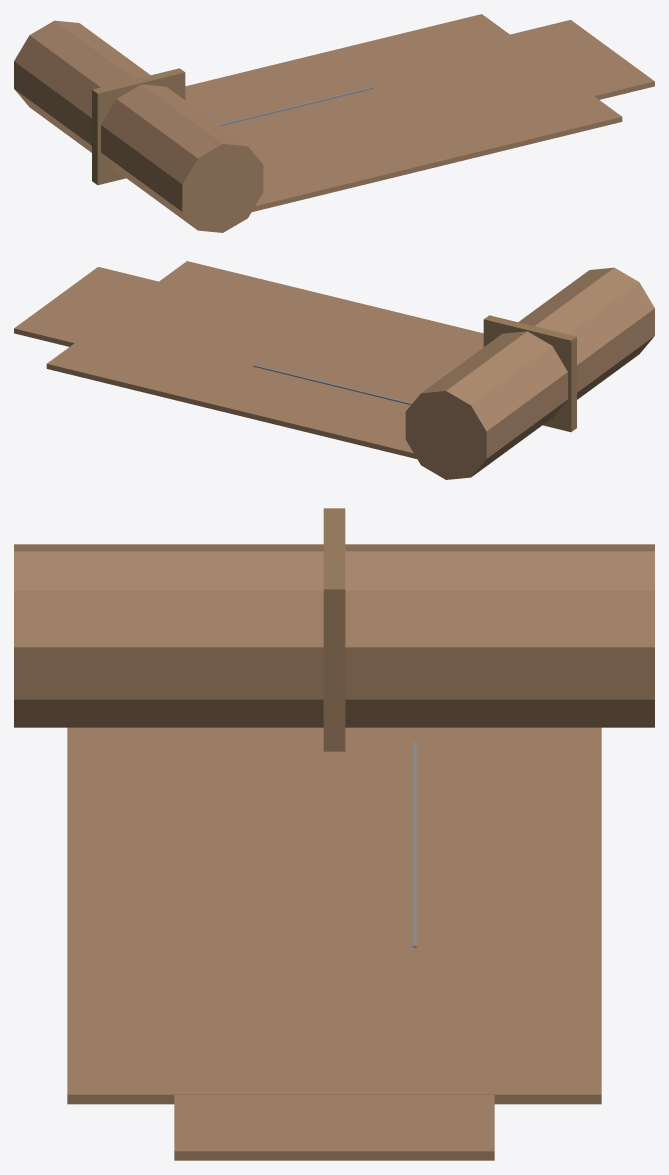
Rendered from prop-leather-wrap-blank.fbx.
The picture shows the model from 3 angles, top to bottom: view 1: azimuth 30°, elevation 25°; view 2: azimuth 150°, elevation 25°; view 3: azimuth 270°, elevation 25°; orthographic projection. The views are drawn at different scales.
Parts seen in each view (by area): view 1: prop-leather-wrap-blank; view 2: prop-leather-wrap-blank; view 3: prop-leather-wrap-blank.
Boxes of the visible parts, <box> form: prop-leather-wrap-blank: <box>14,14,654,232</box>; prop-leather-wrap-blank: <box>14,261,654,479</box>; prop-leather-wrap-blank: <box>14,508,654,1160</box>.
Size of the model in its own units: 42.6 by 7.2 by 24.
